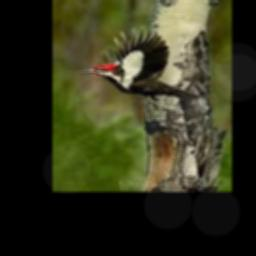Woodpecker: (77, 27, 204, 103)
